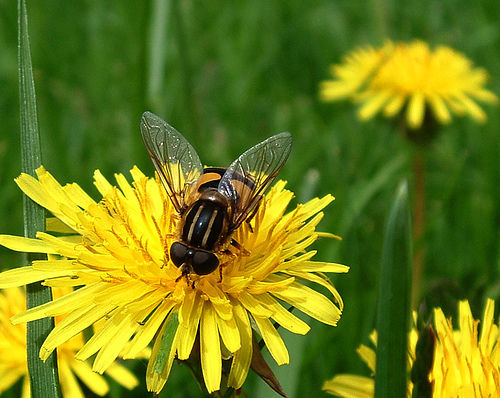dandelion: (12, 90, 354, 397), (316, 27, 500, 145)
